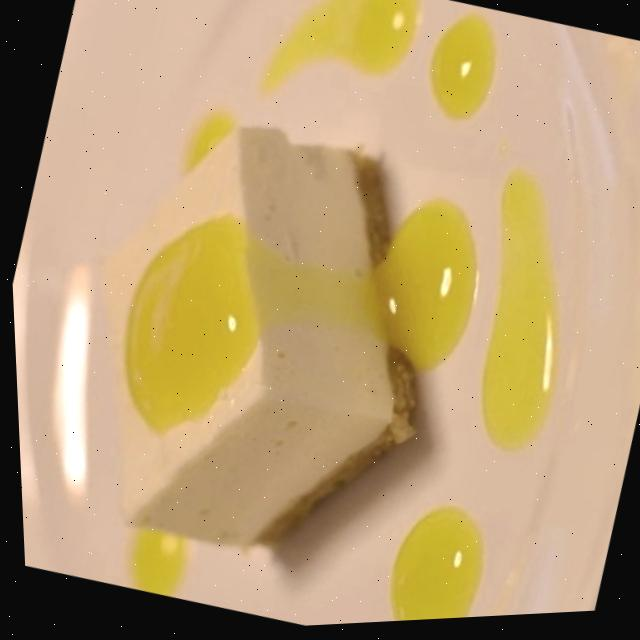蛋糕甜品: (1, 1, 566, 640)
